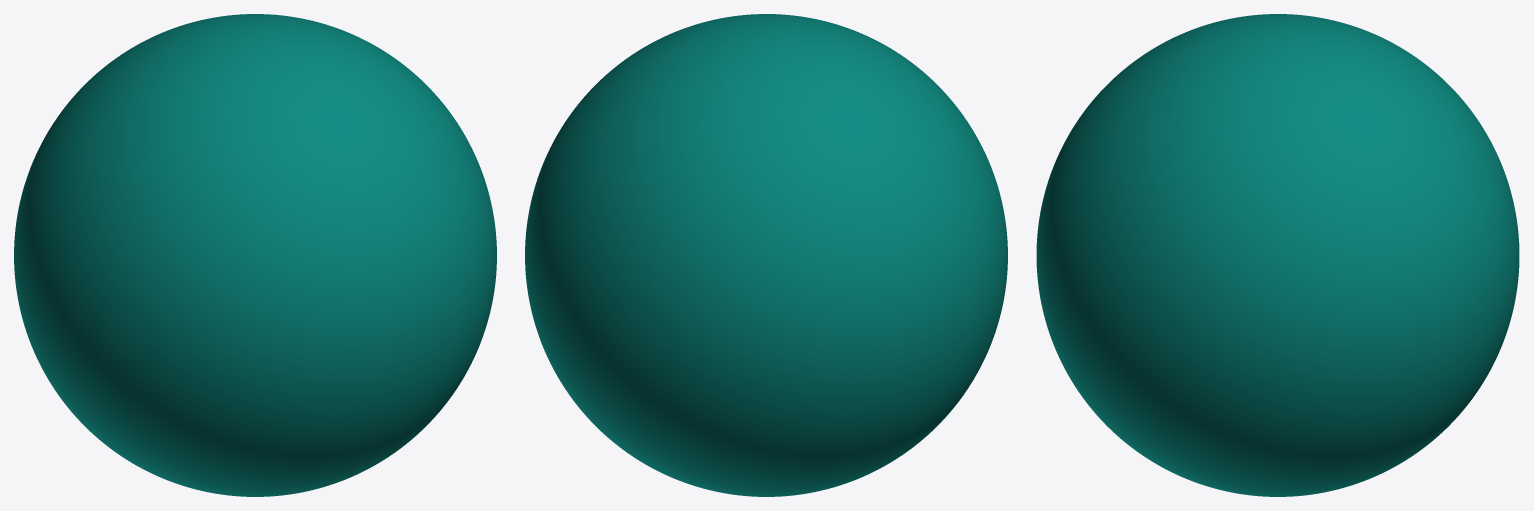
The model's file is dark_turquoise_sphere.glb.
3 renders of one model, left to right at view 1: azimuth 30°, elevation 25°; view 2: azimuth 150°, elevation 25°; view 3: azimuth 270°, elevation 25°, orthographic.
Parts seen in each view (by area): view 1: sphereestlcleanermaterialmergergles; view 2: sphereestlcleanermaterialmergergles; view 3: sphereestlcleanermaterialmergergles.
Part boxes in pixels (x1,y1,x2,y2): sphereestlcleanermaterialmergergles: (14,14,496,496); sphereestlcleanermaterialmergergles: (525,14,1007,496); sphereestlcleanermaterialmergergles: (1036,14,1519,496).
Size of the model in its own units: 20 by 20 by 20.
